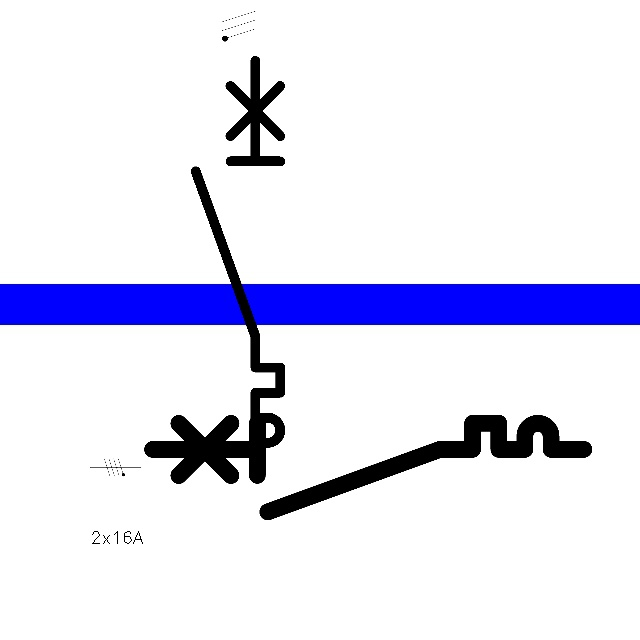interruptor_termomagnetico: (141, 412, 595, 523), (185, 50, 291, 485)
